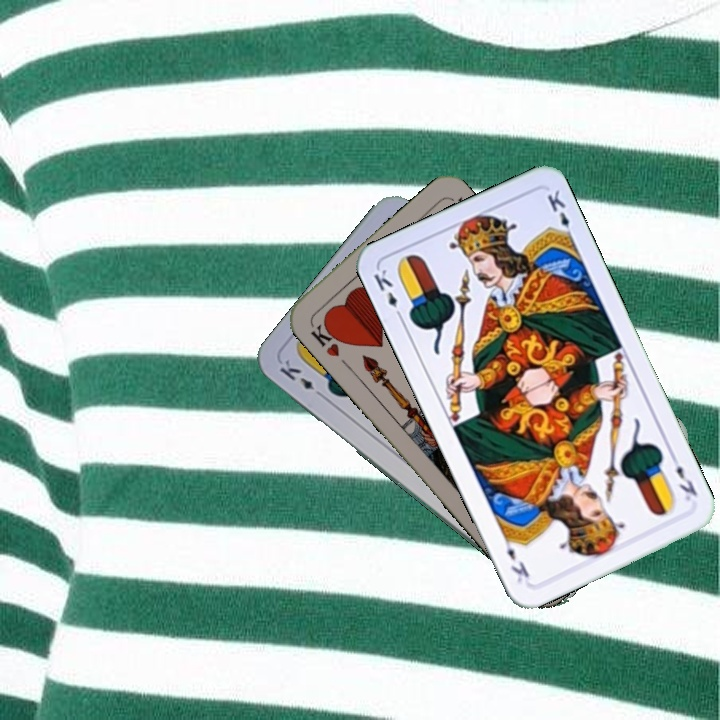EK: (275, 355, 328, 401), (369, 265, 406, 322), (666, 450, 700, 504)
HK: (306, 316, 347, 360)
